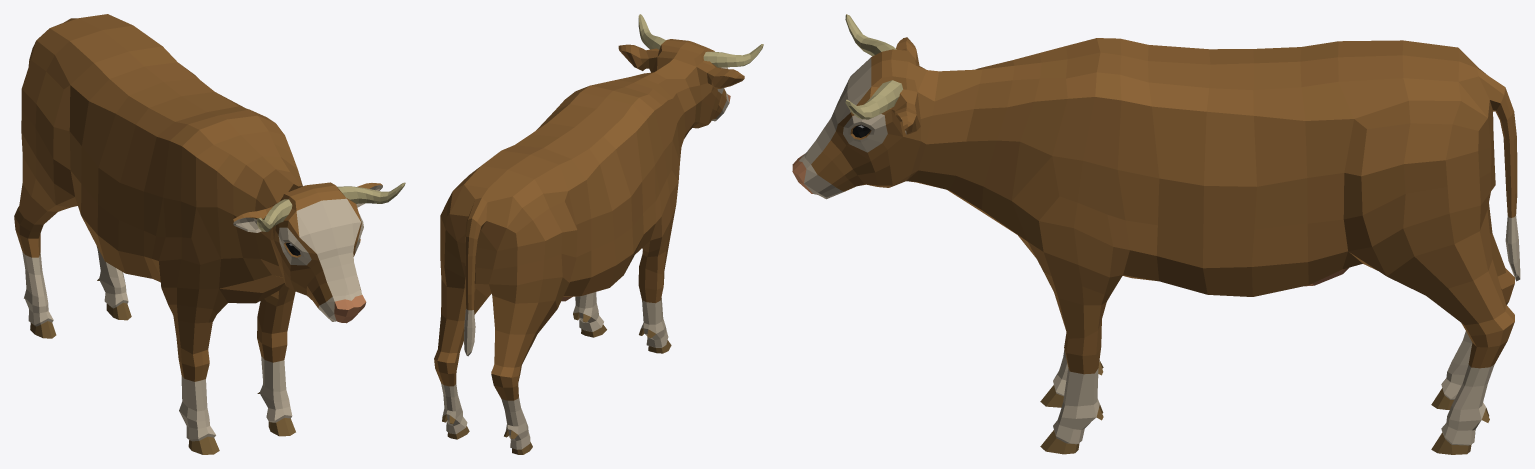
File: cow.glb
3 views of the same model, side by side, from view 1: azimuth 30°, elevation 25°; view 2: azimuth 150°, elevation 25°; view 3: azimuth 270°, elevation 25° (orthographic). The views are drawn at different scales.
Parts seen in each view (by area): view 1: Cow; view 2: Cow; view 3: Cow.
Part boxes in pixels (<box>): Cow: <box>14,14,405,454</box>; Cow: <box>434,14,763,454</box>; Cow: <box>792,14,1520,454</box>.
Size of the model in its own units: 2.31 by 4.59 by 8.07.
